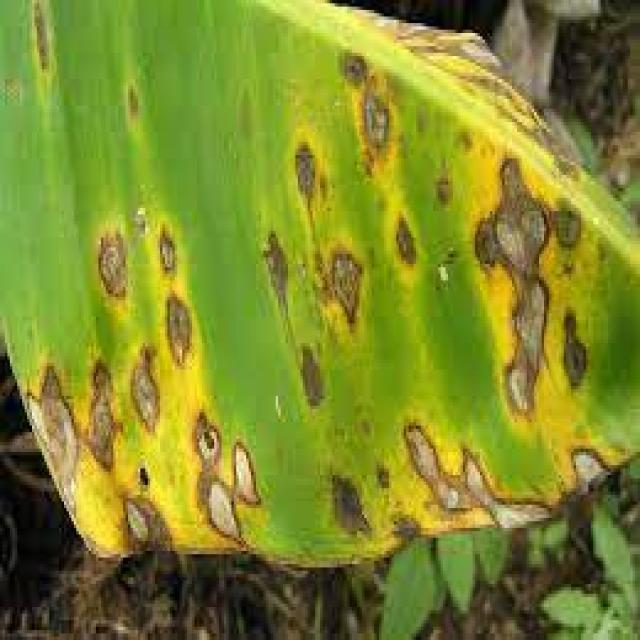Early_rust: (0, 0, 640, 556)
